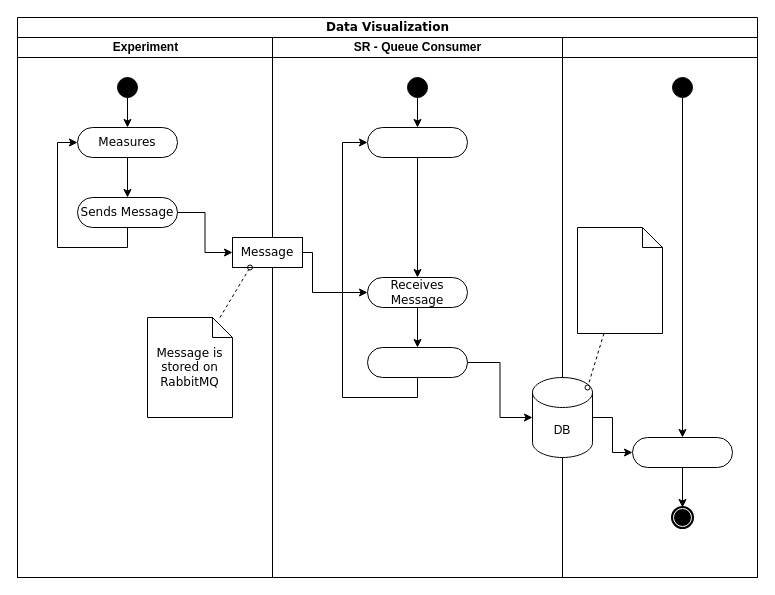
Some shapes in this 775 by 595 pixel diagram are drawn without their labels. Here are the shapes that lost their labels. From the top down, the box of each, then its label:
(366, 126, 468, 158): Listens to Queue
(576, 226, 662, 334): The database acts as a buffer
(562, 36, 758, 578): SR - Read API
(366, 346, 468, 378): Stores on DB
(632, 436, 732, 468): Shows Data
